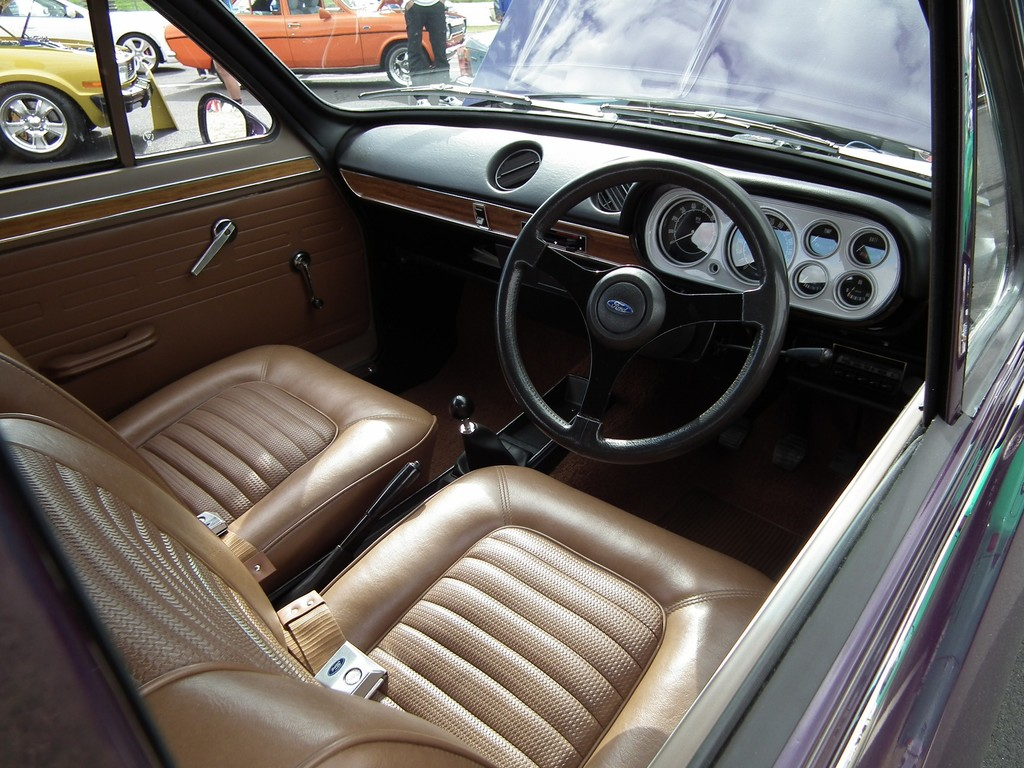Car: (0, 0, 1023, 767), (0, 8, 175, 159), (165, 0, 466, 79), (0, 0, 166, 74)
